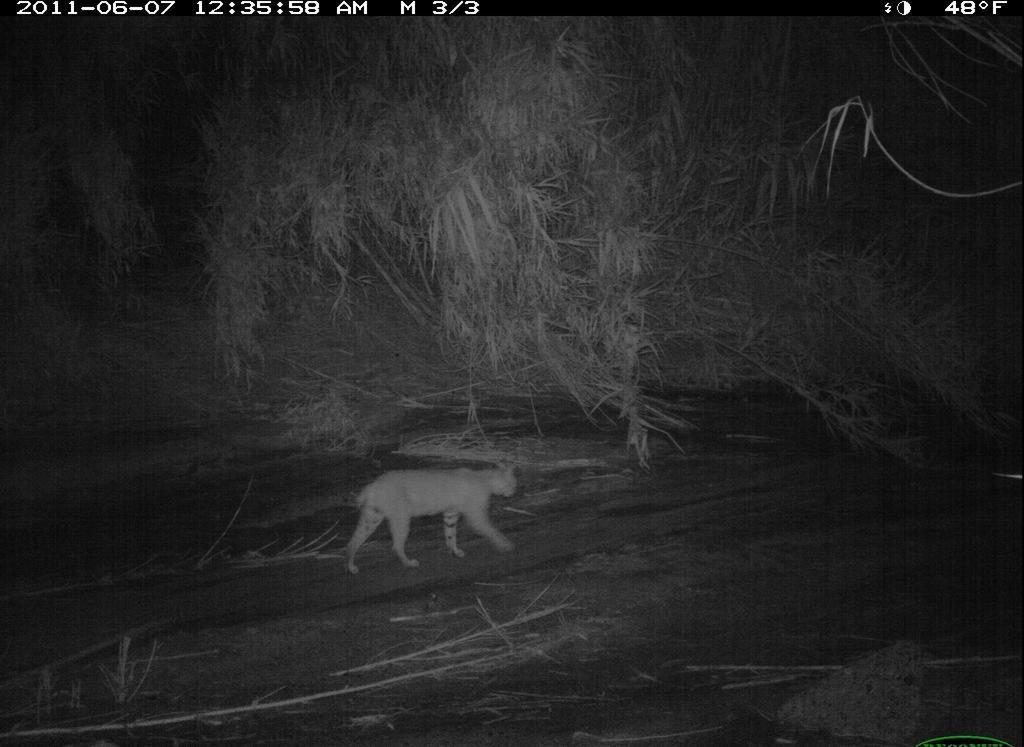bobcat: (331, 457, 527, 584)
